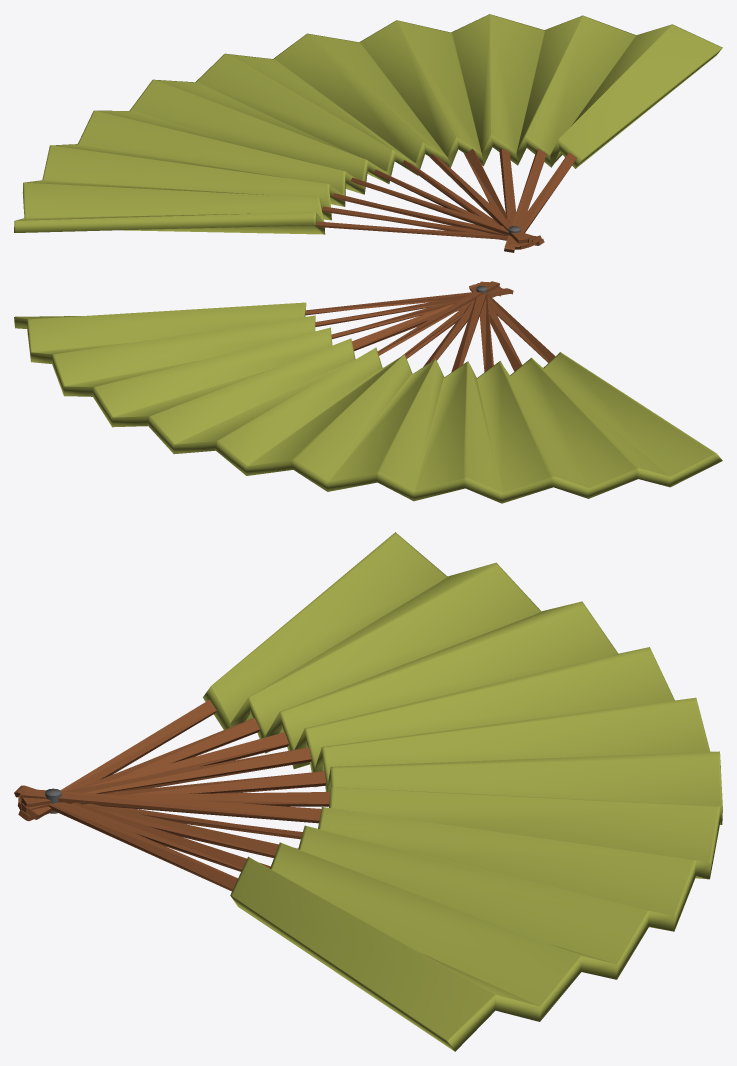
The model's file is paperfan.FBX.
3 renders of one model, top to bottom at view 1: azimuth 30°, elevation 25°; view 2: azimuth 150°, elevation 25°; view 3: azimuth 270°, elevation 25°, orthographic. The views are drawn at different scales.
Parts seen in each view (by area): view 1: fan; view 2: fan; view 3: fan.
Boxes of the visible parts, left/top/right/bottom form: fan: left=14, top=14, right=722, bottom=252; fan: left=14, top=281, right=722, bottom=503; fan: left=14, top=532, right=722, bottom=1051.
Bounding box in the file's own units: 51.21 × 2.14 × 31.5.
